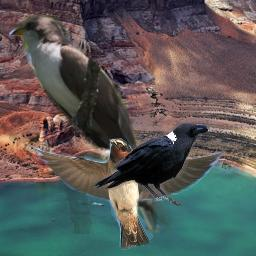Crow: (93, 123, 210, 207)
Cuckoo: (9, 15, 175, 234)
Swallow: (26, 138, 226, 250)
